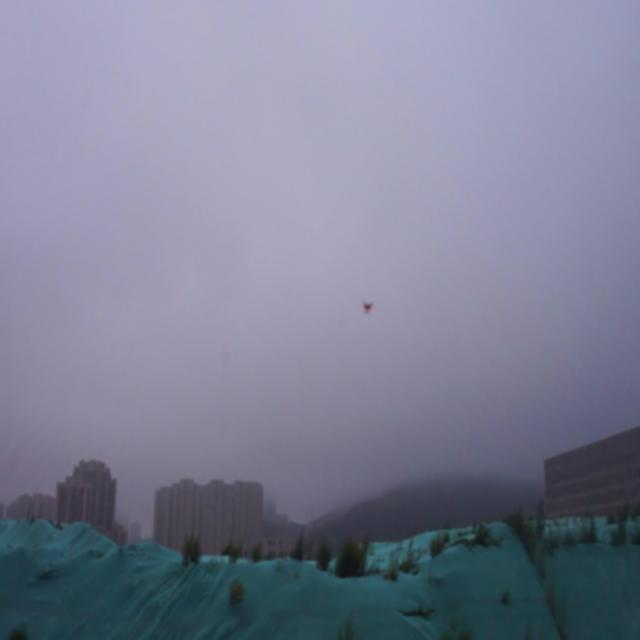UAV: (361, 301, 374, 314)
